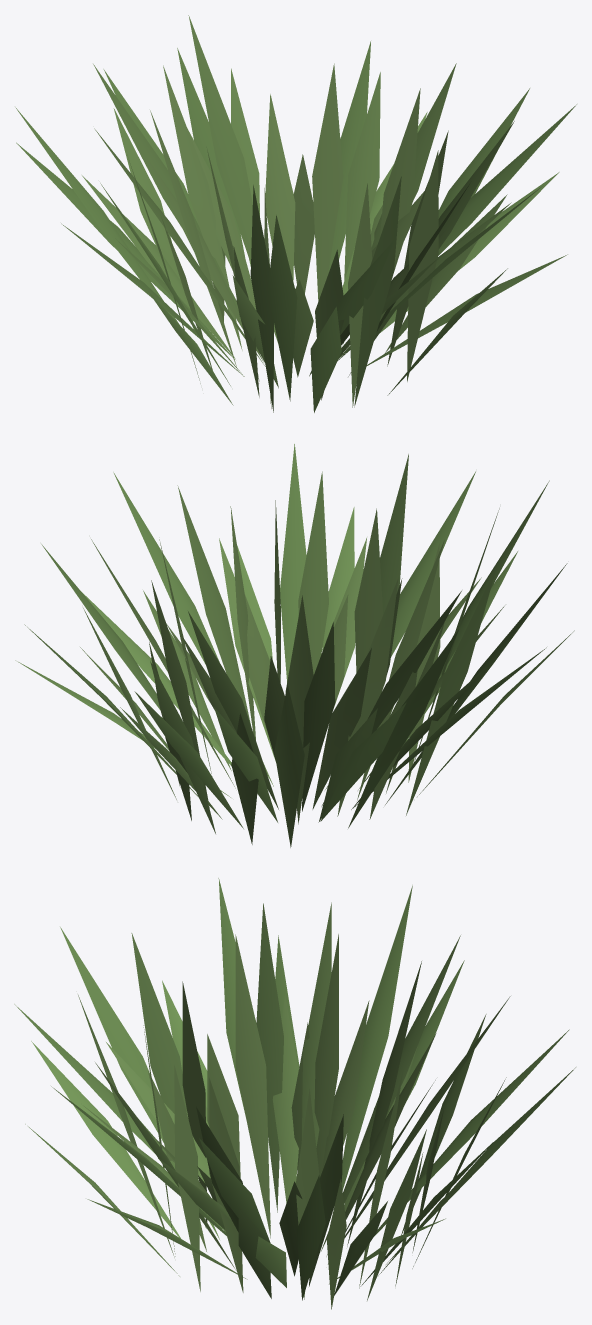
The model's file is grass-kit.desktop.glb.
The picture shows the model from 3 angles, top to bottom: view 1: azimuth 30°, elevation 25°; view 2: azimuth 150°, elevation 25°; view 3: azimuth 270°, elevation 25°; orthographic projection.
Parts seen in each view (by area): view 1: SA_G05_MESH_60, SA_G05_MESH_62, SA_G05_MESH_61; view 2: SA_G05_MESH_62, SA_G05_MESH_61, SA_G05_MESH_60; view 3: SA_G05_MESH_62, SA_G05_MESH_60, SA_G05_MESH_61.
Boxes of the visible parts, x1,y1,x2,y2 form: SA_G05_MESH_60: [61, 48, 576, 407]; SA_G05_MESH_62: [15, 15, 567, 408]; SA_G05_MESH_61: [16, 41, 559, 412]; SA_G05_MESH_62: [41, 471, 574, 828]; SA_G05_MESH_61: [24, 444, 567, 833]; SA_G05_MESH_60: [15, 454, 549, 847]; SA_G05_MESH_62: [14, 885, 569, 1309]; SA_G05_MESH_60: [25, 902, 575, 1291]; SA_G05_MESH_61: [31, 878, 506, 1299].
Bounding box in the file's own units: 0.599 × 0.314 × 0.595.
